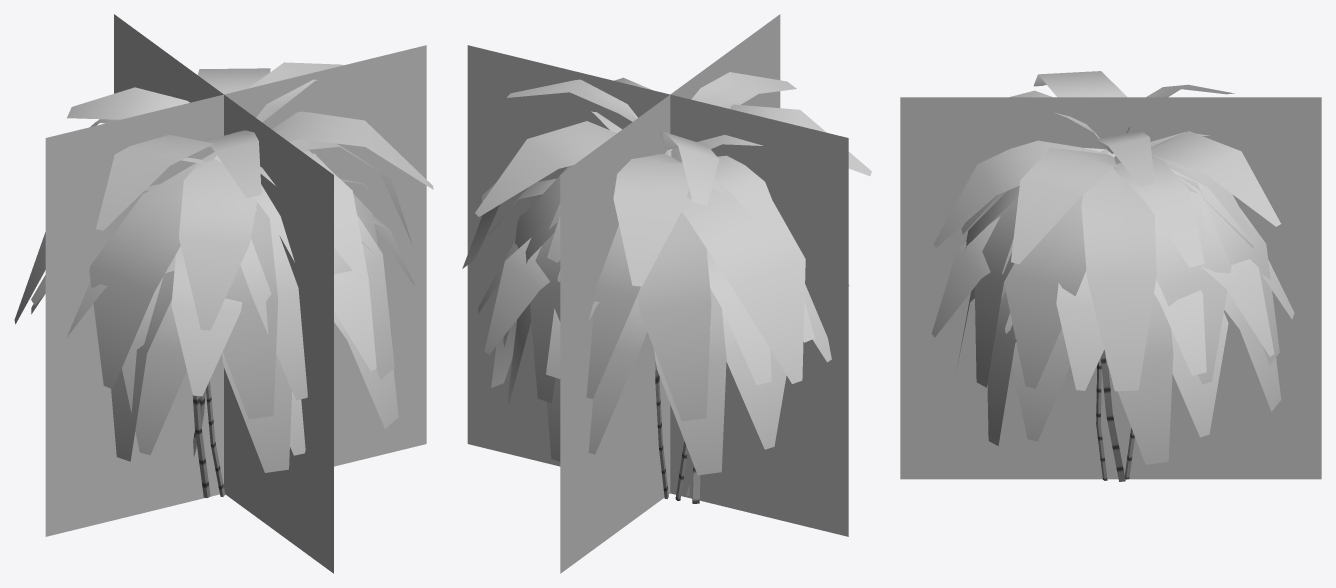
File: Palm_Tree_LOD0.fbx
3 renders of one model, left to right at view 1: azimuth 30°, elevation 25°; view 2: azimuth 150°, elevation 25°; view 3: azimuth 270°, elevation 25°, orthographic. The views are drawn at different scales.
Visible parts, largest first — view 1: Palm_Tree_LOD0; view 2: Palm_Tree_LOD0; view 3: Palm_Tree_LOD0.
Part boxes in pixels (x1,y1,x2,y2): Palm_Tree_LOD0: (14,14,433,573); Palm_Tree_LOD0: (462,14,871,573); Palm_Tree_LOD0: (900,71,1321,481).
Size of the model in its own units: 100 by 100 by 100.
